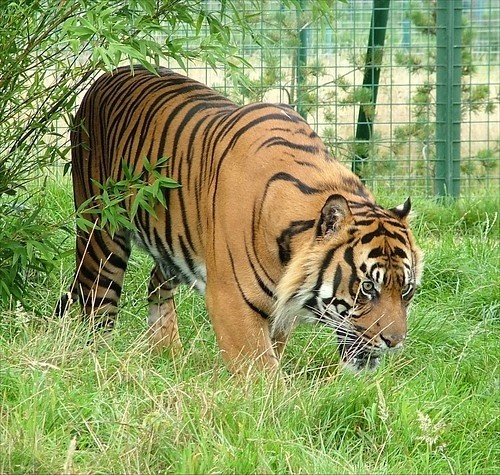tigre: (58, 64, 432, 386)
